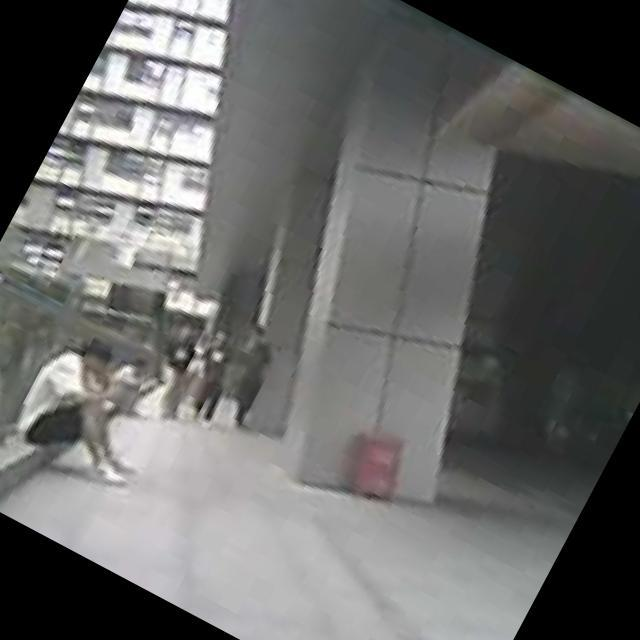person: (5, 321, 176, 492), (173, 325, 250, 426), (144, 318, 213, 416), (217, 338, 283, 431), (96, 348, 154, 412)
